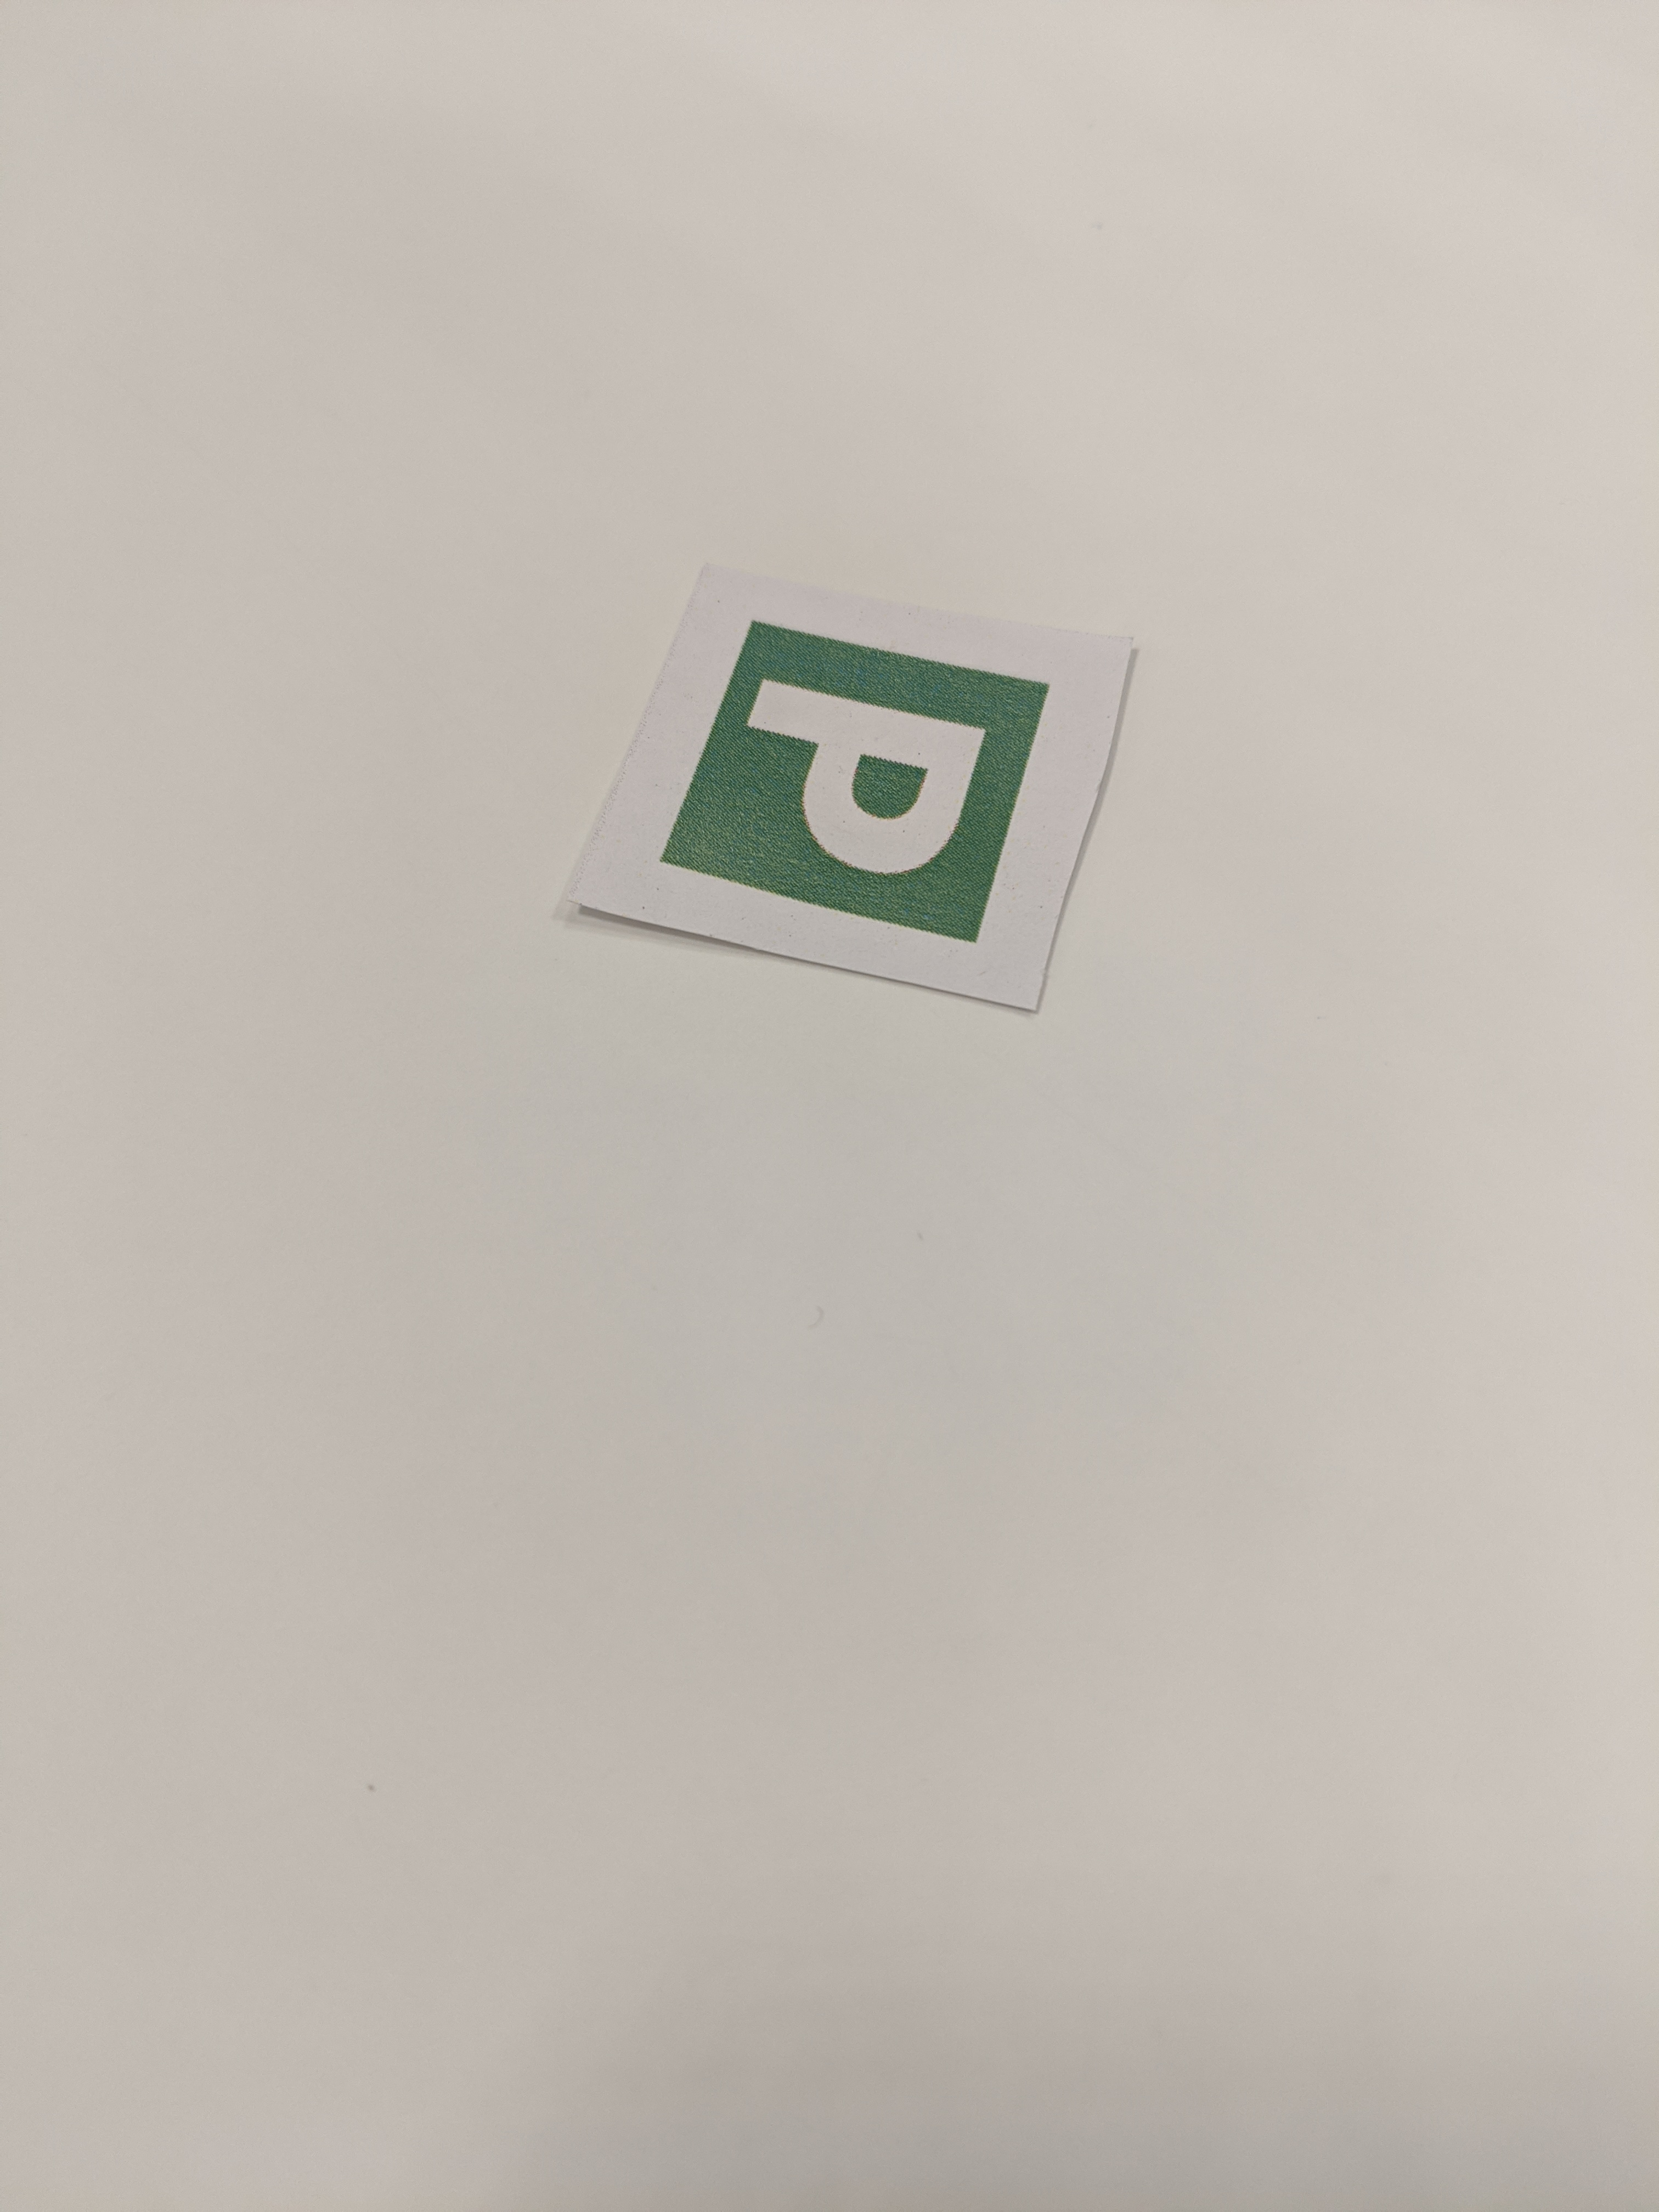green marker: (558, 561, 1141, 1017)
